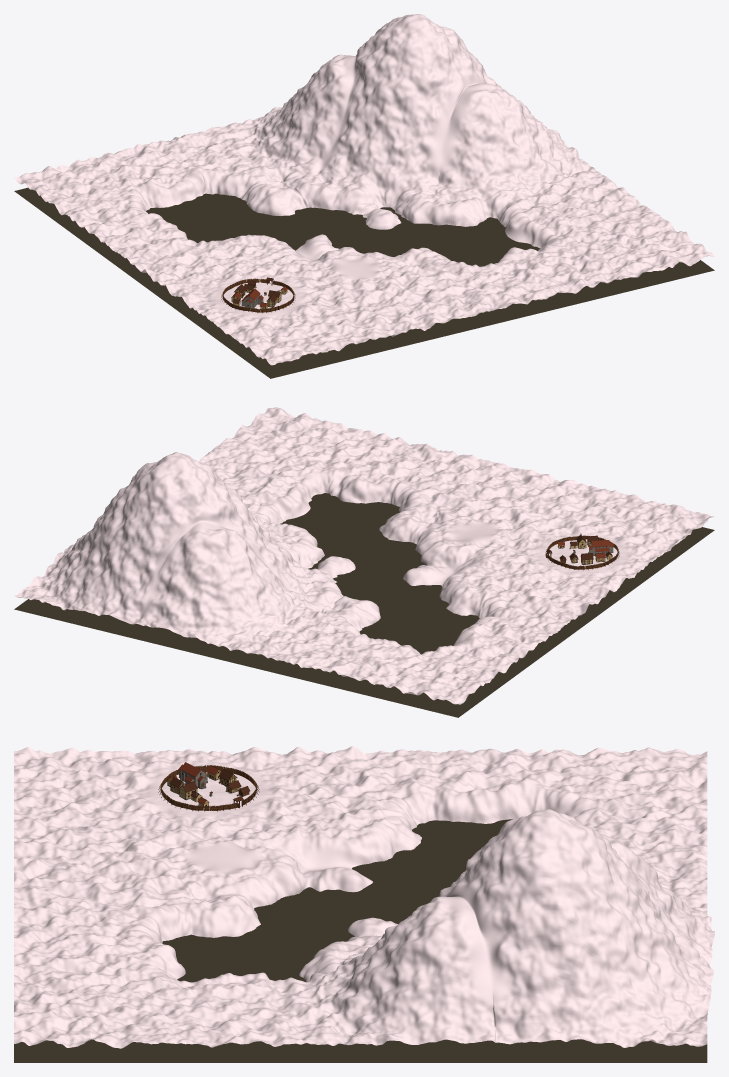
The model's file is Map.glb.
3 views of the same model, one above another, from view 1: azimuth 30°, elevation 25°; view 2: azimuth 150°, elevation 25°; view 3: azimuth 270°, elevation 25° (orthographic). The views are drawn at different scales.
Parts seen in each view (by area): view 1: Terreno, Pantano, VillaBoj; view 2: Terreno, Pantano, VillaBoj; view 3: Terreno, Pantano, VillaBoj.
Boxes of the visible parts, x1,y1,x2,y2 form: Terreno: (14, 14, 714, 365); Pantano: (14, 187, 714, 378); VillaBoj: (221, 277, 295, 313); Terreno: (14, 407, 713, 704); Pantano: (14, 493, 714, 717); VillaBoj: (545, 533, 619, 570); Terreno: (14, 746, 714, 1048); Pantano: (14, 819, 707, 1062); VillaBoj: (158, 762, 259, 811).
Bounding box in the file's own units: 484 × 186 × 485.
